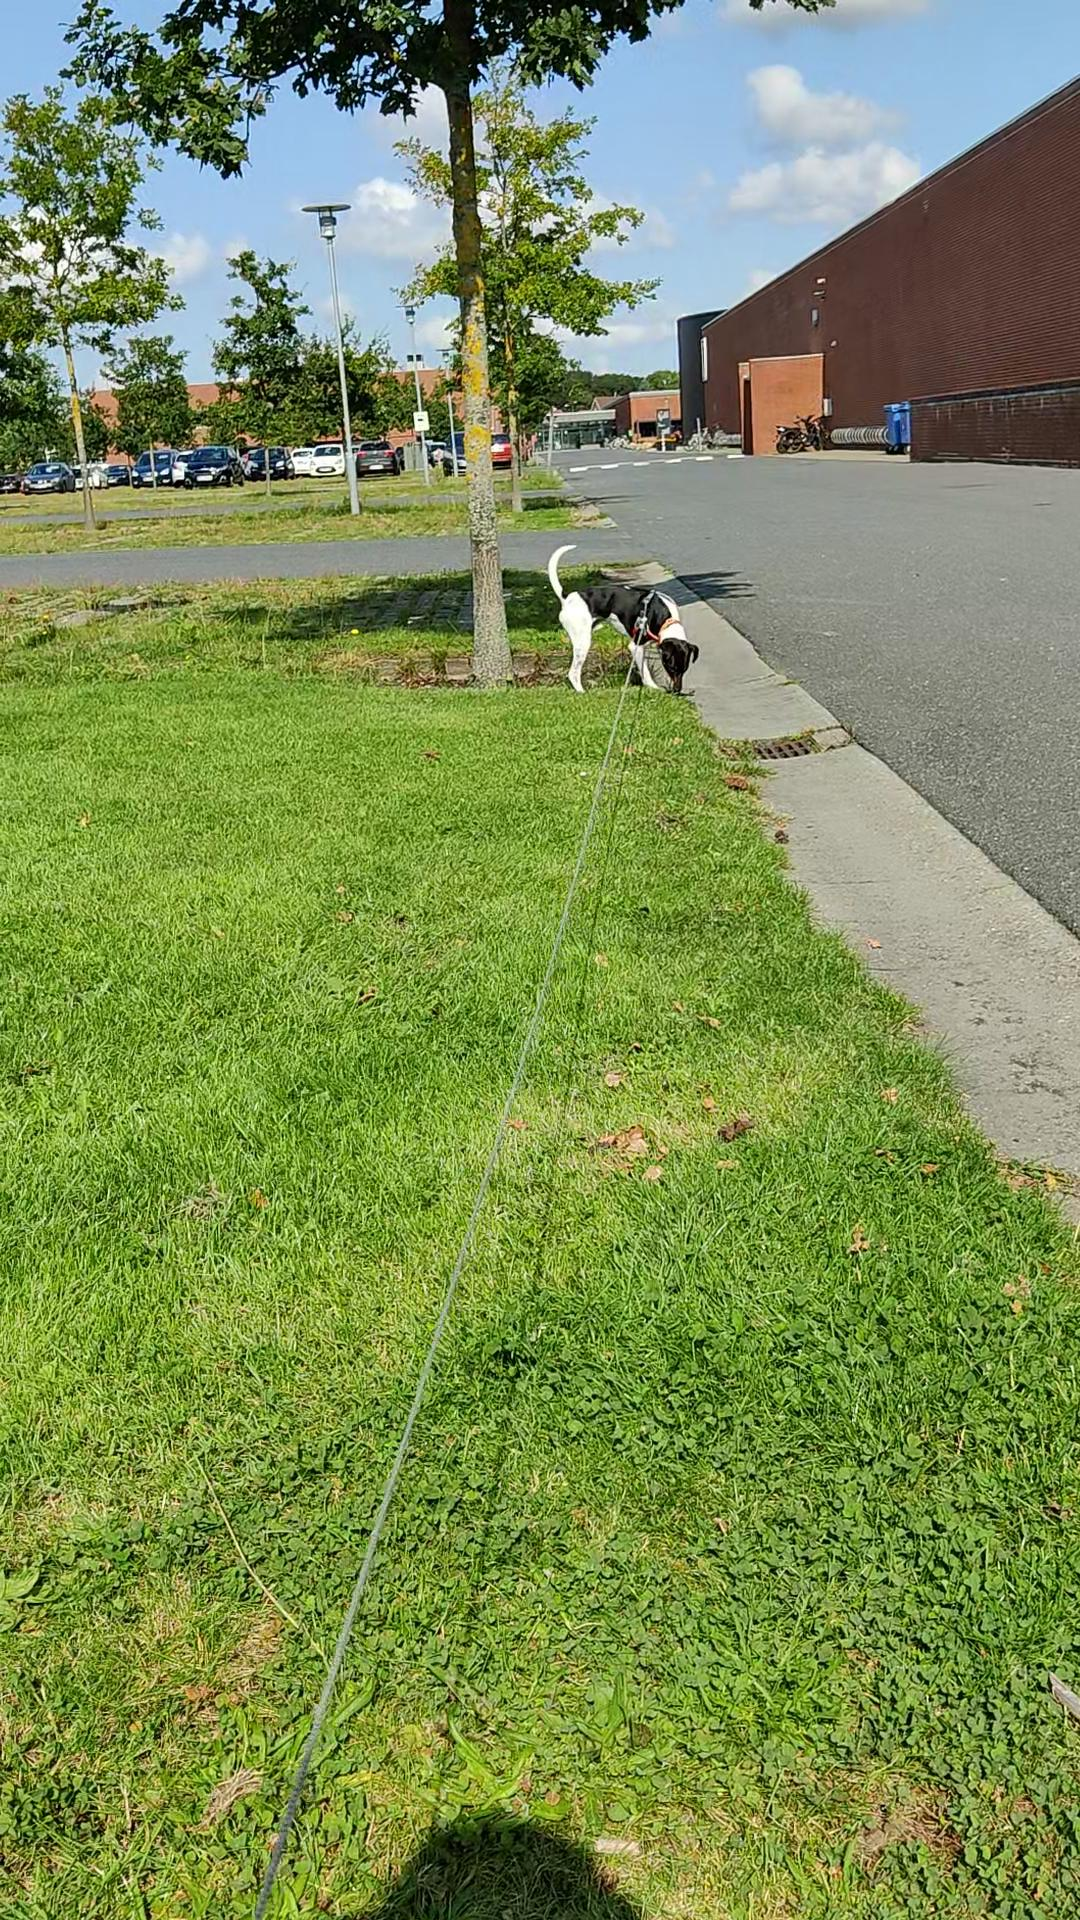Dog: (541, 539, 702, 698)
